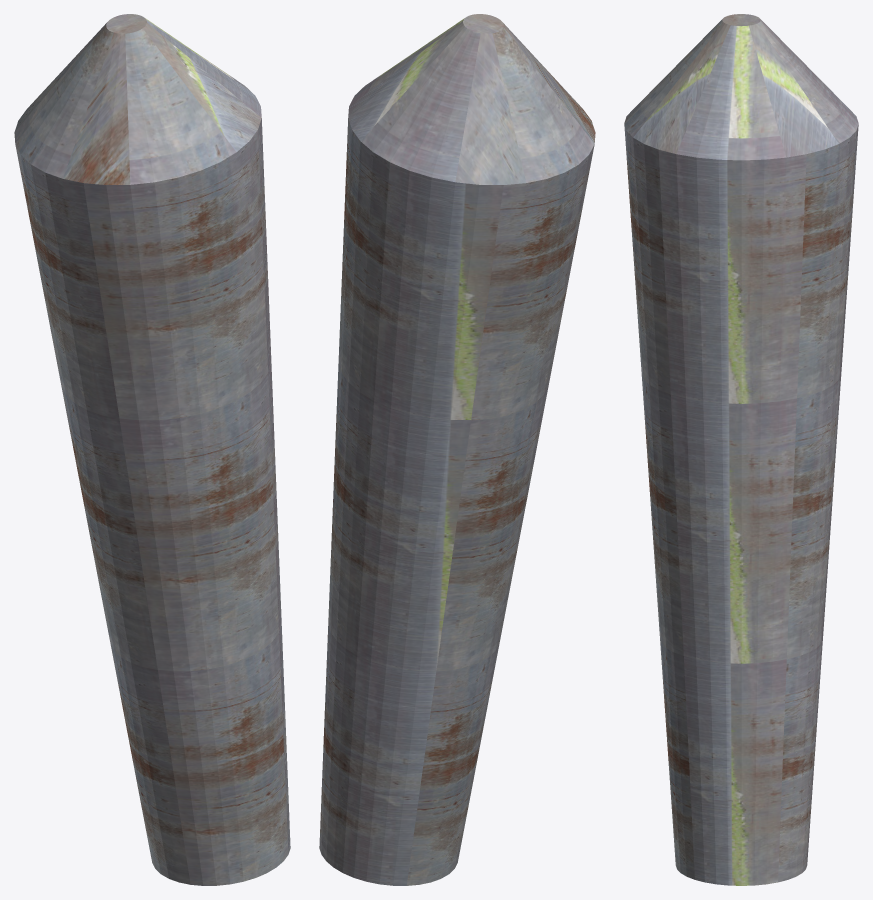
Rendered from Kanonenrohr.fbx.
The picture shows the model from 3 angles, left to right: view 1: azimuth 30°, elevation 25°; view 2: azimuth 150°, elevation 25°; view 3: azimuth 270°, elevation 25°; orthographic projection. The views are drawn at different scales.
Visible parts, largest first — view 1: Kanone; view 2: Kanone; view 3: Kanone.
Boxes of the visible parts, x1=… form: Kanone: x1=14, y1=14, x2=290, y2=885; Kanone: x1=319, y1=14, x2=595, y2=885; Kanone: x1=624, y1=14, x2=858, y2=885.
Bounding box in the file's own units: 2.32 × 7.63 × 2.
1 material, 1 textured.
